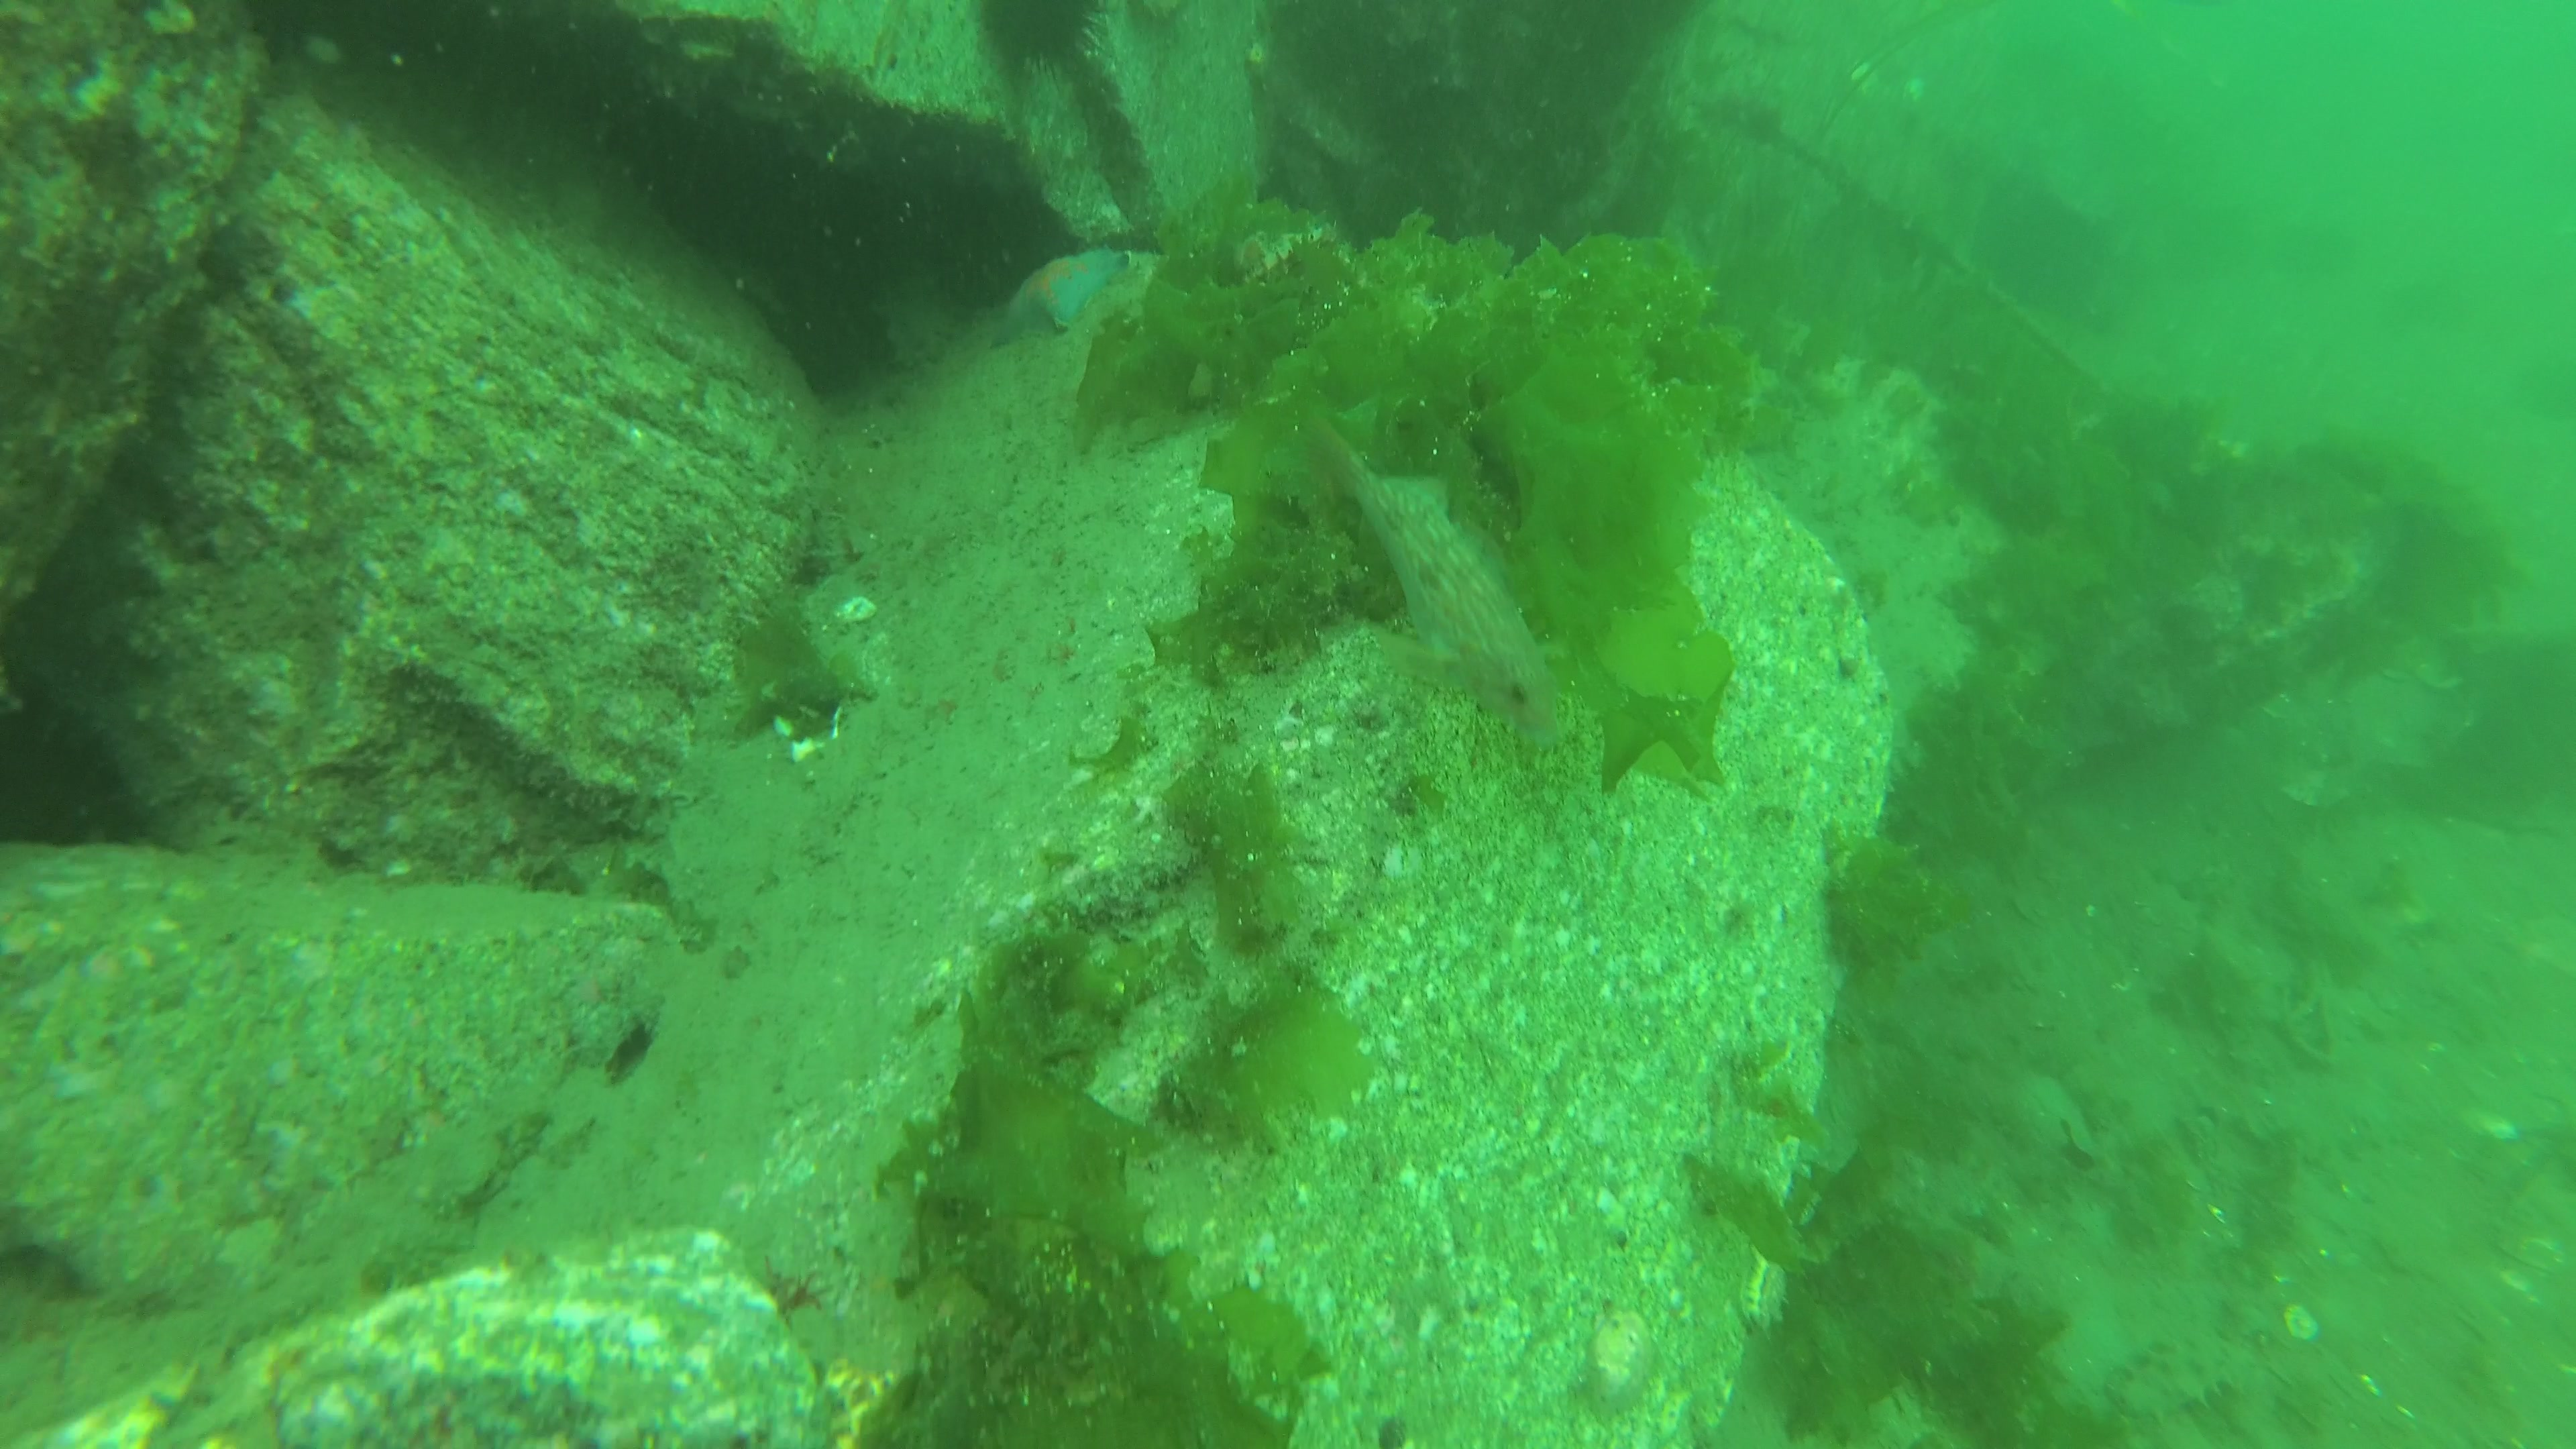echinus: (970, 0, 1113, 73)
holothurian: (2104, 1334, 2265, 1428)
starfish: (987, 237, 1136, 343)
